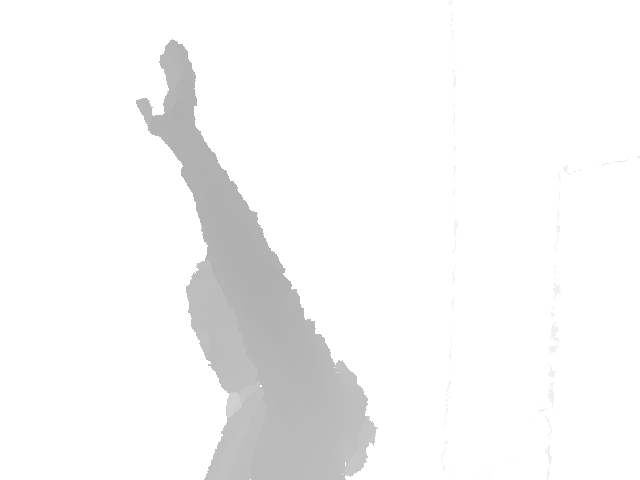hand: (134, 38, 203, 137)
head: (184, 256, 271, 392)
person: (134, 38, 378, 480)
